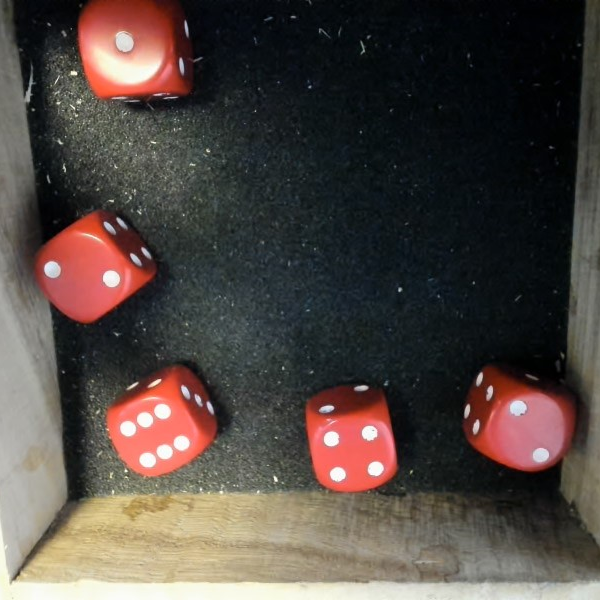red_die_pip1: (80, 0, 198, 102)
red_die_pip2: (24, 193, 166, 333), (447, 356, 580, 480)
red_die_pip4: (298, 378, 402, 493)
red_die_pip6: (92, 351, 234, 489)
